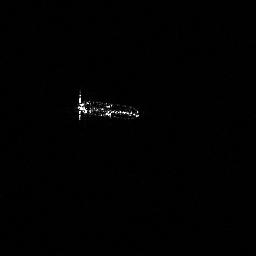ship: (72, 86, 143, 123)
